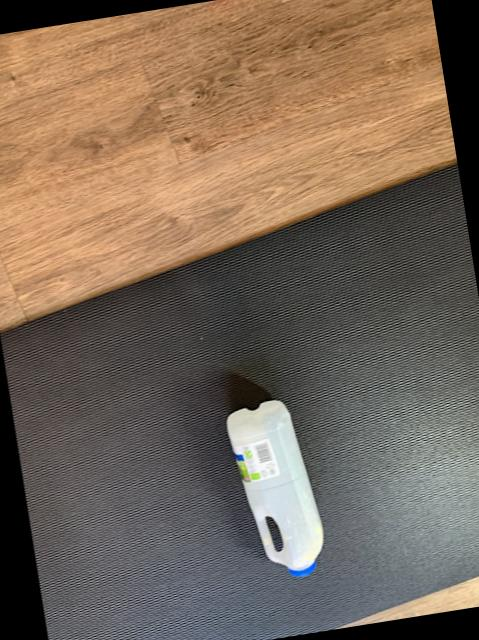plastic: (227, 398, 323, 575)
